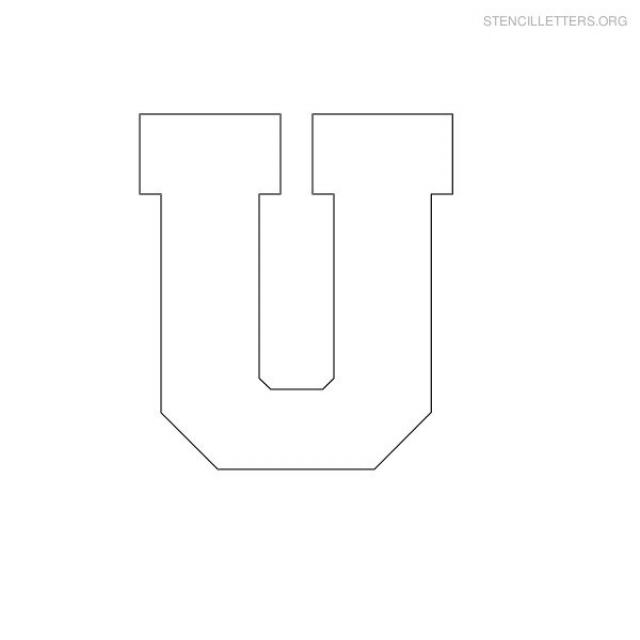U: (72, 57, 556, 510)
